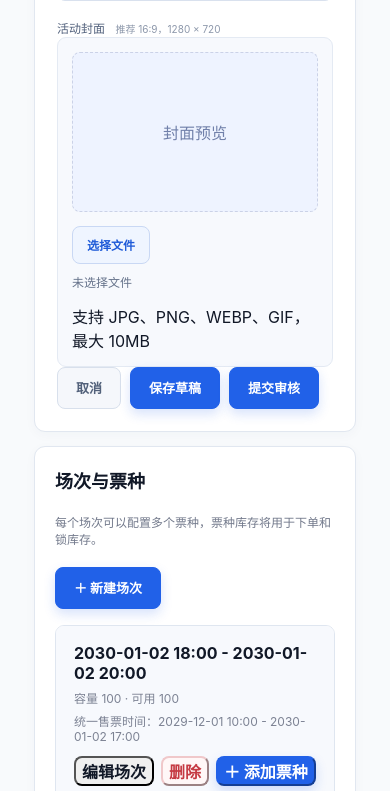
Test: does not submit an incomplete draft and gives a checklist of missing information
The image size is (390, 791).
(page scrolled)
Click the button "提交审核".
click(274, 388)  # box [229, 367, 319, 409]
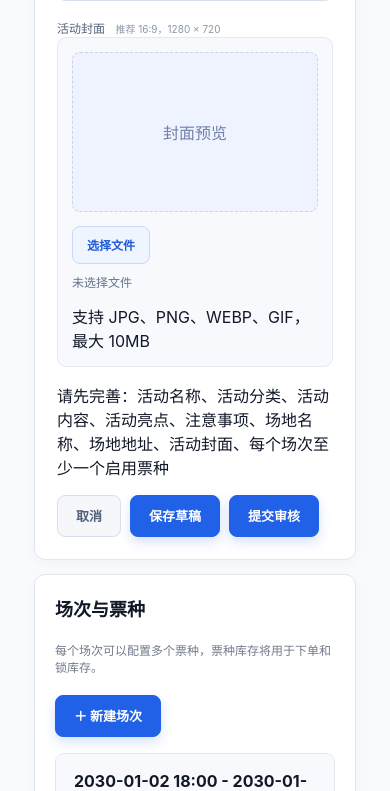
Expected: the text "封面" is shown, [57, 21, 220, 36]
Now the text "请先完善" is shown, box [57, 386, 329, 478]
